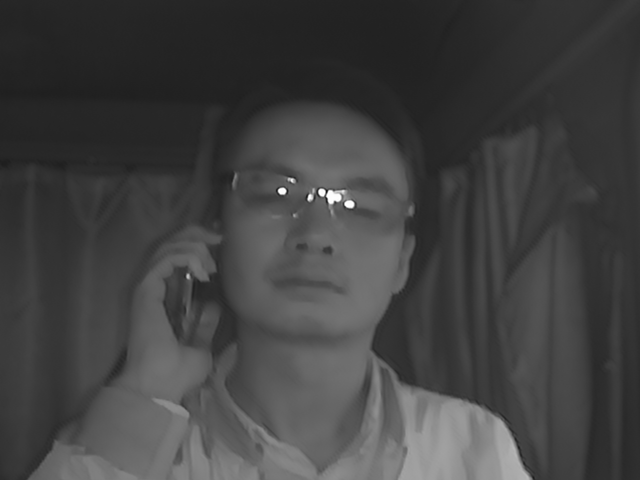hand: (123, 226, 225, 381)
